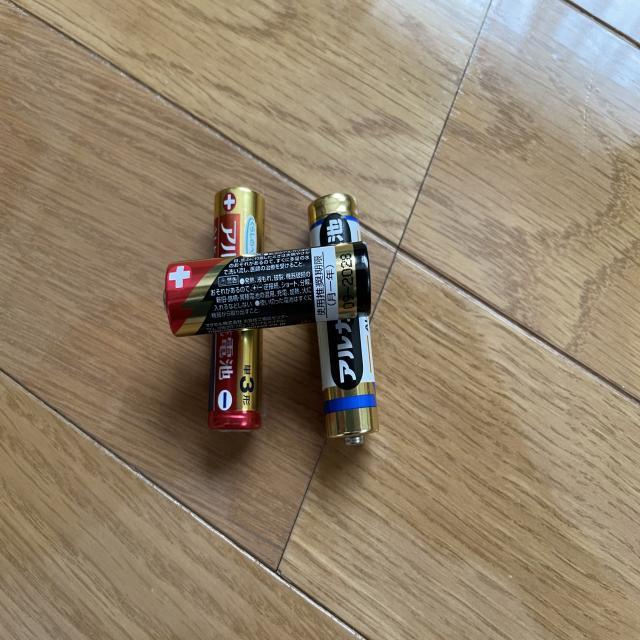hazardous waste: (158, 238, 378, 340), (303, 192, 384, 454), (205, 188, 268, 441)
